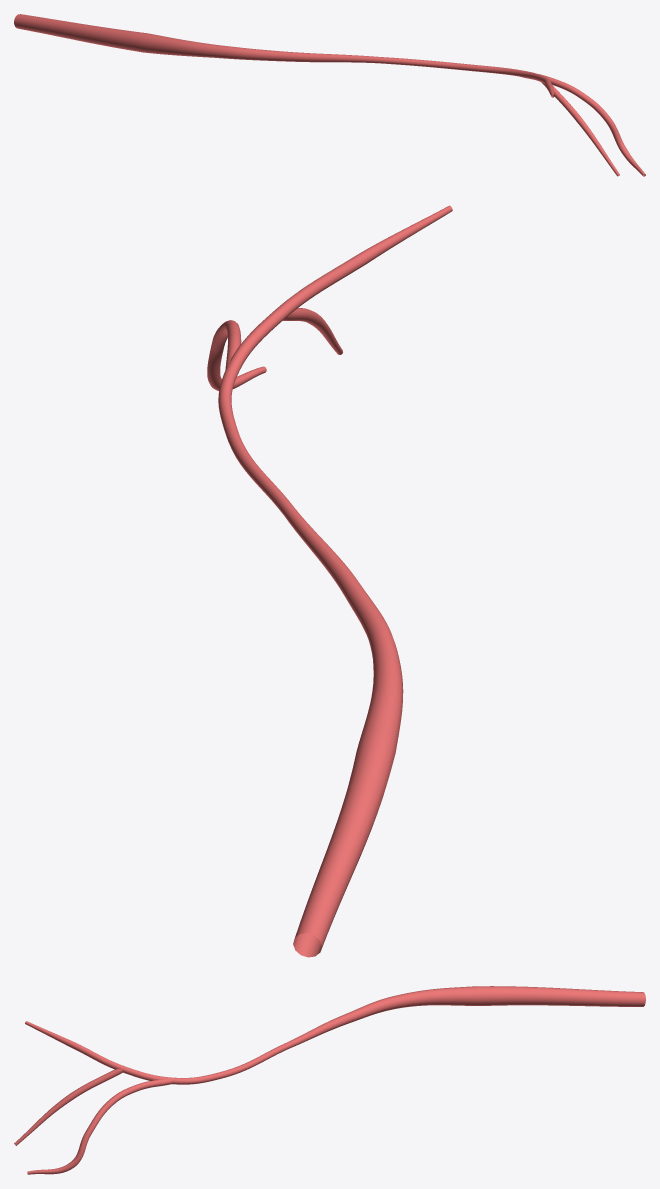
Rendered from Lacrimal_artery.l.001_BezierCurve.296.glb.
3 views of the same model, one above another, from view 1: azimuth 30°, elevation 25°; view 2: azimuth 150°, elevation 25°; view 3: azimuth 270°, elevation 25° (orthographic). The views are drawn at different scales.
Parts seen in each view (by area): view 1: Lacrimal_artery.l.001_BezierCurve.296; view 2: Lacrimal_artery.l.001_BezierCurve.296; view 3: Lacrimal_artery.l.001_BezierCurve.296.
Part boxes in pixels (left/top/right/bottom): Lacrimal_artery.l.001_BezierCurve.296: left=14, top=14, right=645, bottom=176; Lacrimal_artery.l.001_BezierCurve.296: left=207, top=205, right=452, bottom=957; Lacrimal_artery.l.001_BezierCurve.296: left=14, top=986, right=645, bottom=1174.
Bounding box in the file's own units: 0.0235 × 0.00708 × 0.0377.
